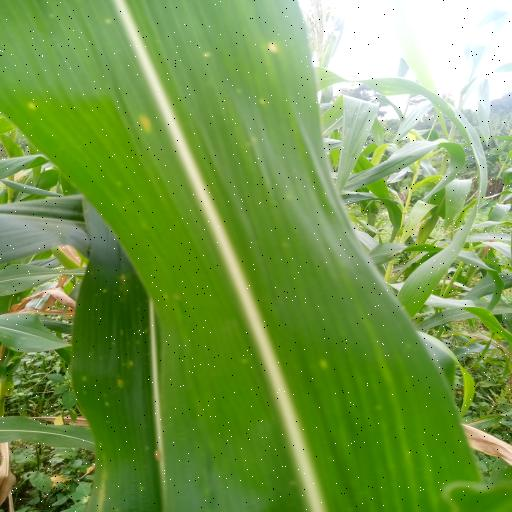Corn_Chlorotic_Leaf_Spot: (1, 0, 482, 512)
